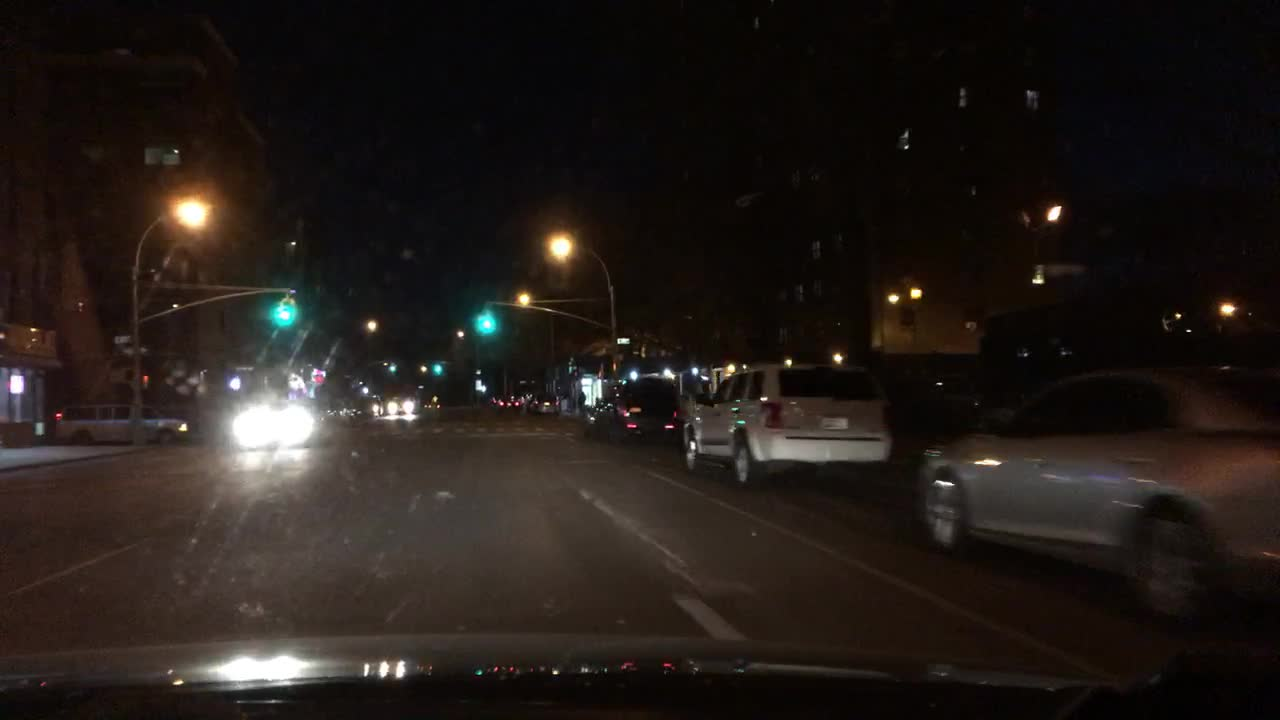car: (918, 359, 1279, 616), (682, 361, 895, 490), (581, 378, 688, 444), (53, 402, 190, 448), (236, 395, 311, 446), (384, 389, 421, 415), (523, 394, 557, 415), (362, 396, 382, 414), (502, 398, 521, 411), (489, 394, 507, 407)
traffic light: (278, 297, 294, 325), (480, 310, 492, 332), (433, 361, 440, 377), (389, 363, 397, 377)
traffic sign: (123, 348, 150, 355), (115, 335, 134, 344), (615, 336, 631, 345)
